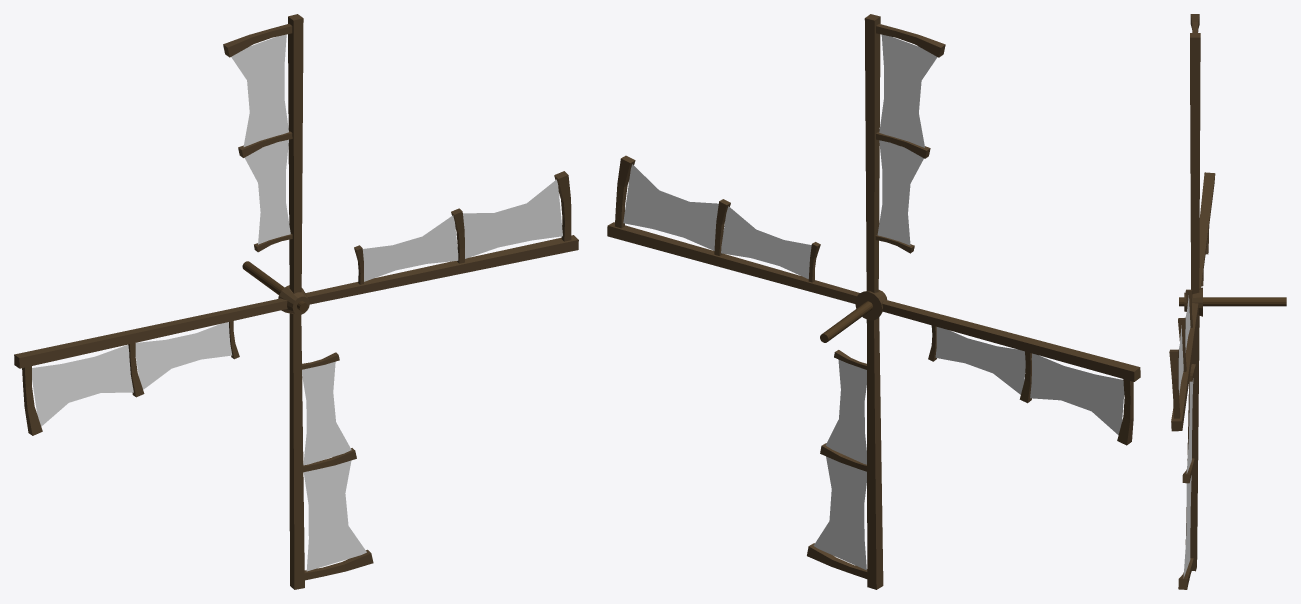
The model's file is Gatherer-Hut-Blades.fbx.
3 views of the same model, side by side, from view 1: azimuth 30°, elevation 25°; view 2: azimuth 150°, elevation 25°; view 3: azimuth 270°, elevation 25° (orthographic). The views are drawn at different scales.
Parts seen in each view (by area): view 1: SM_Mill_Fan; view 2: SM_Mill_Fan; view 3: SM_Mill_Fan.
Boxes of the visible parts, x1,y1,x2,y2 form: SM_Mill_Fan: [14, 14, 578, 589]; SM_Mill_Fan: [607, 14, 1140, 589]; SM_Mill_Fan: [1169, 14, 1286, 589].
Bounding box in the file's own units: 431 × 85.78 × 431.
